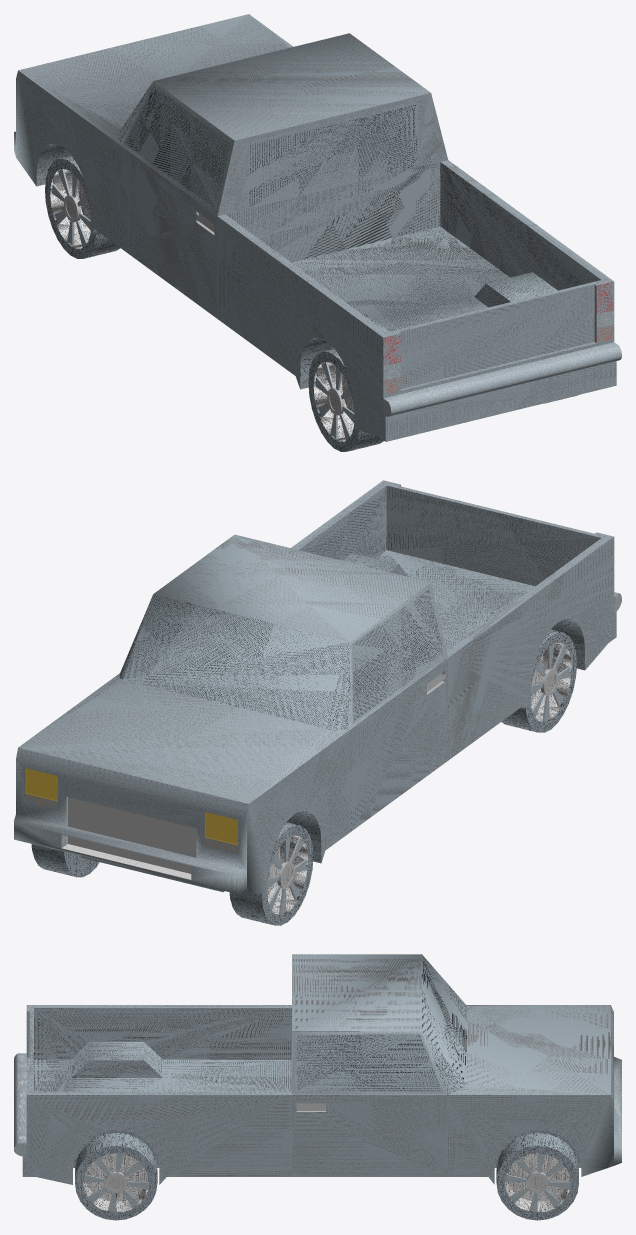
The model's file is car.fbx.
3 renders of one model, top to bottom at view 1: azimuth 30°, elevation 25°; view 2: azimuth 150°, elevation 25°; view 3: azimuth 270°, elevation 25°, orthographic. The views are drawn at different scales.
Parts seen in each view (by area): view 1: Group1; view 2: Group1; view 3: Group1.
Boxes of the visible parts, box(x1,y1,x2,y2) form: Group1: box(14, 14, 621, 451); Group1: box(14, 480, 621, 925); Group1: box(14, 954, 621, 1220).
Bounding box in the file's own units: 3.16 × 2.86 × 8.75.
